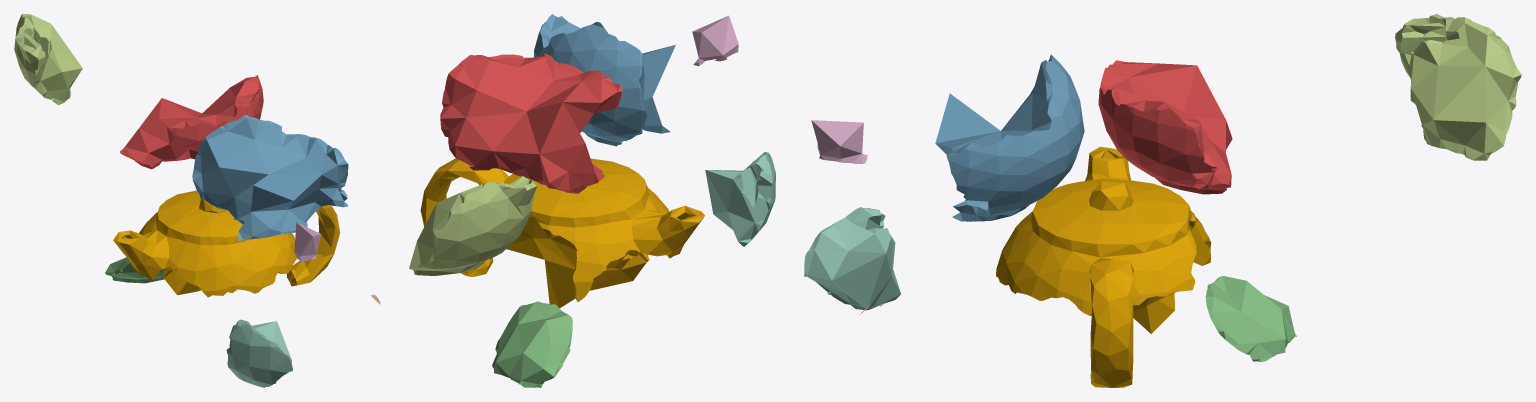
The model's file is mode_12_8pcs_transformed.glb.
The picture shows the model from 3 angles, left to right: view 1: azimuth 30°, elevation 25°; view 2: azimuth 150°, elevation 25°; view 3: azimuth 270°, elevation 25°; orthographic projection. The views are drawn at different scales.
Visible parts, largest first — view 1: piece_2.obj, piece_0.obj, piece_1.obj, piece_5.obj, piece_4.obj, piece_6.obj, piece_3.obj; view 2: piece_1.obj, piece_0.obj, piece_2.obj, piece_5.obj, piece_3.obj, piece_4.obj, piece_6.obj; view 3: piece_0.obj, piece_2.obj, piece_1.obj, piece_5.obj, piece_4.obj, piece_3.obj, piece_6.obj.
Part boxes in pixels (x1,y1,x2,y2): piece_2.obj: [192, 115, 348, 241]; piece_0.obj: [113, 190, 340, 297]; piece_1.obj: [120, 75, 263, 169]; piece_5.obj: [14, 14, 82, 104]; piece_4.obj: [226, 319, 292, 387]; piece_6.obj: [294, 222, 321, 262]; piece_3.obj: [105, 257, 164, 283]; piece_1.obj: [440, 53, 622, 193]; piece_0.obj: [420, 158, 704, 308]; piece_2.obj: [534, 14, 675, 146]; piece_5.obj: [409, 176, 537, 275]; piece_3.obj: [492, 301, 572, 387]; piece_4.obj: [705, 151, 775, 246]; piece_6.obj: [692, 15, 738, 66]; piece_0.obj: [996, 146, 1211, 387]; piece_2.obj: [935, 54, 1084, 221]; piece_1.obj: [1098, 60, 1232, 194]; piece_5.obj: [1395, 14, 1521, 160]; piece_4.obj: [804, 207, 900, 310]; piece_3.obj: [1205, 276, 1296, 361]; piece_6.obj: [811, 120, 867, 163].
Bounding box in the file's own units: 1 × 0.9515 × 2.08.
